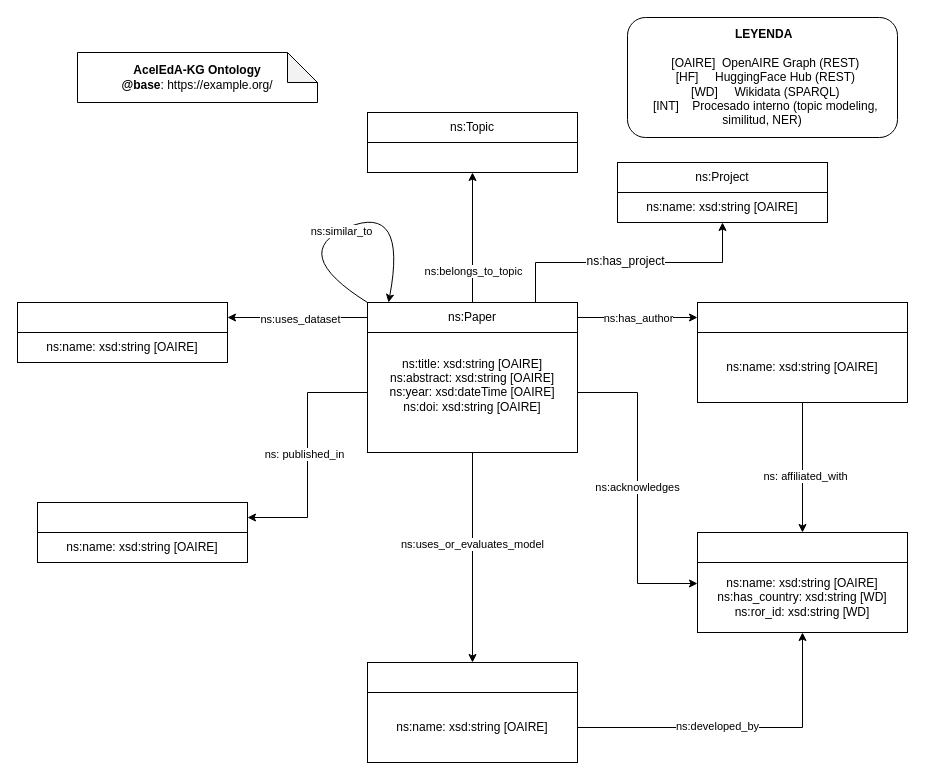
This 925x780 diagram has some shape labels left out. Each missing label, with the centre of its shape:
"ns:Dataset" goes at (122,317).
"ns:label: xsd:string [OAIRE]" goes at (472,157).
"ns:Model" goes at (472,677).
"ns:Organization" goes at (802,547).
"ns:Person" goes at (802,317).
"ns:Venue" goes at (142,517).
